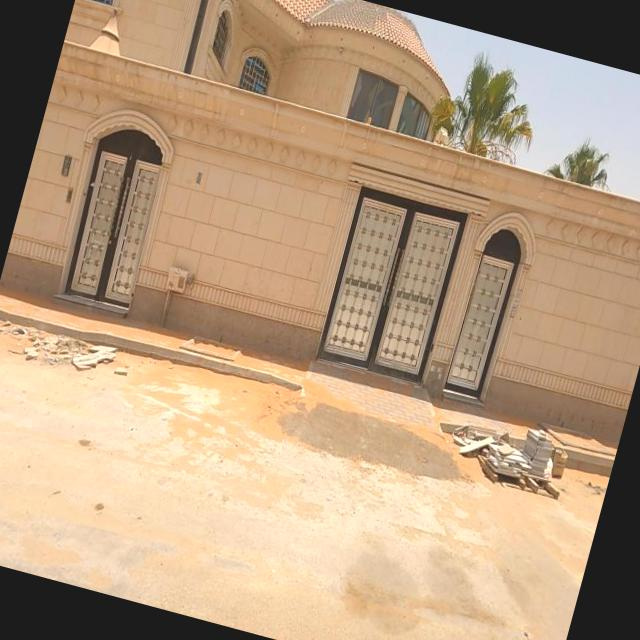debris: (374, 340, 631, 562), (0, 261, 212, 444)
